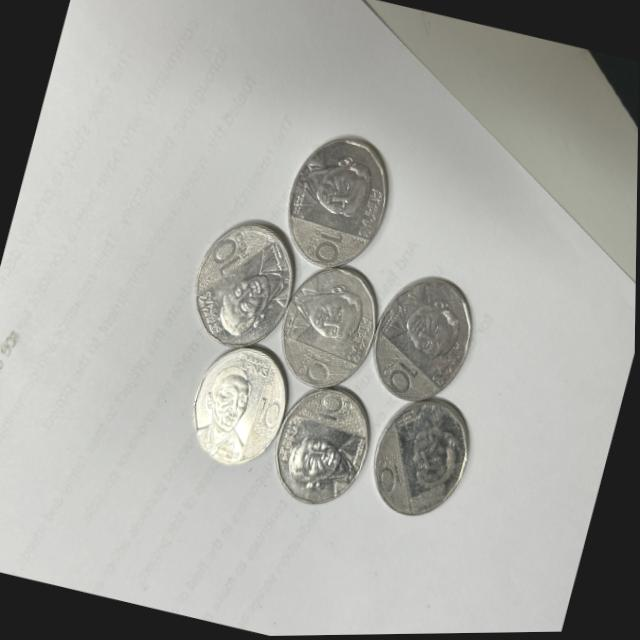10_New_Front: (203, 224, 263, 289), (295, 216, 355, 273), (372, 348, 424, 397), (245, 386, 284, 446), (291, 341, 339, 387), (374, 446, 414, 499), (310, 389, 354, 434)
